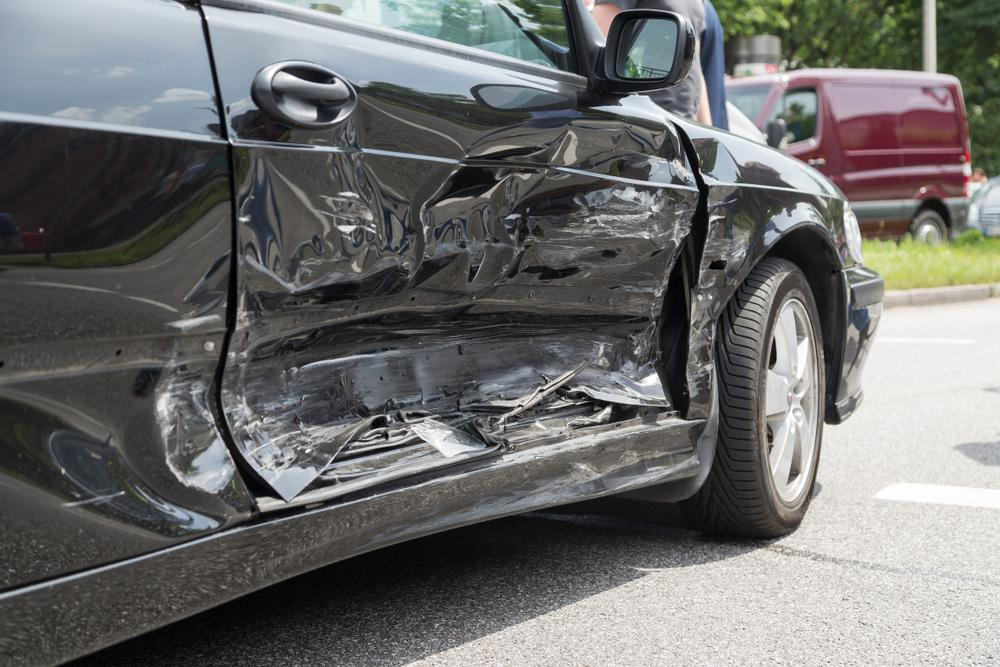dent: (223, 131, 692, 493), (156, 254, 244, 487)
scratch: (687, 218, 752, 399)
